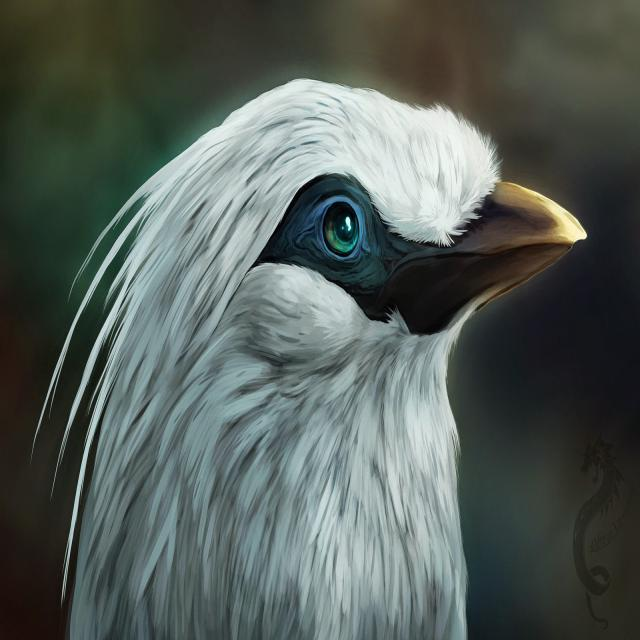Jalak Bali: (45, 57, 610, 640)
